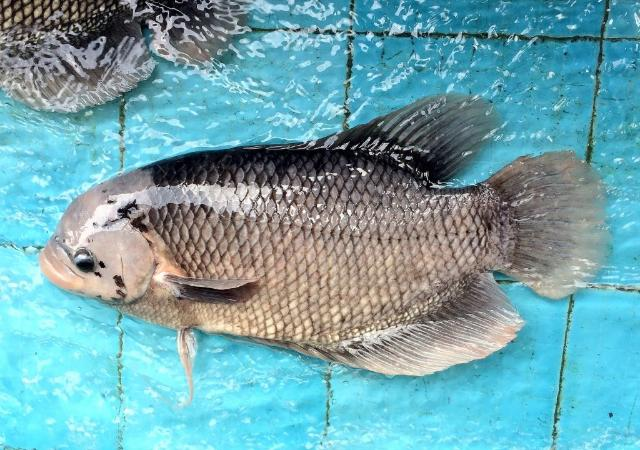Mulut: (15, 223, 107, 309)
Sirip Anal: (280, 272, 540, 388)
Sirip Dada: (140, 249, 272, 322)
Sirip Ekor: (484, 131, 628, 321)
Sirip Perut: (162, 314, 214, 424)
Sirip Punggung: (272, 83, 516, 193)
